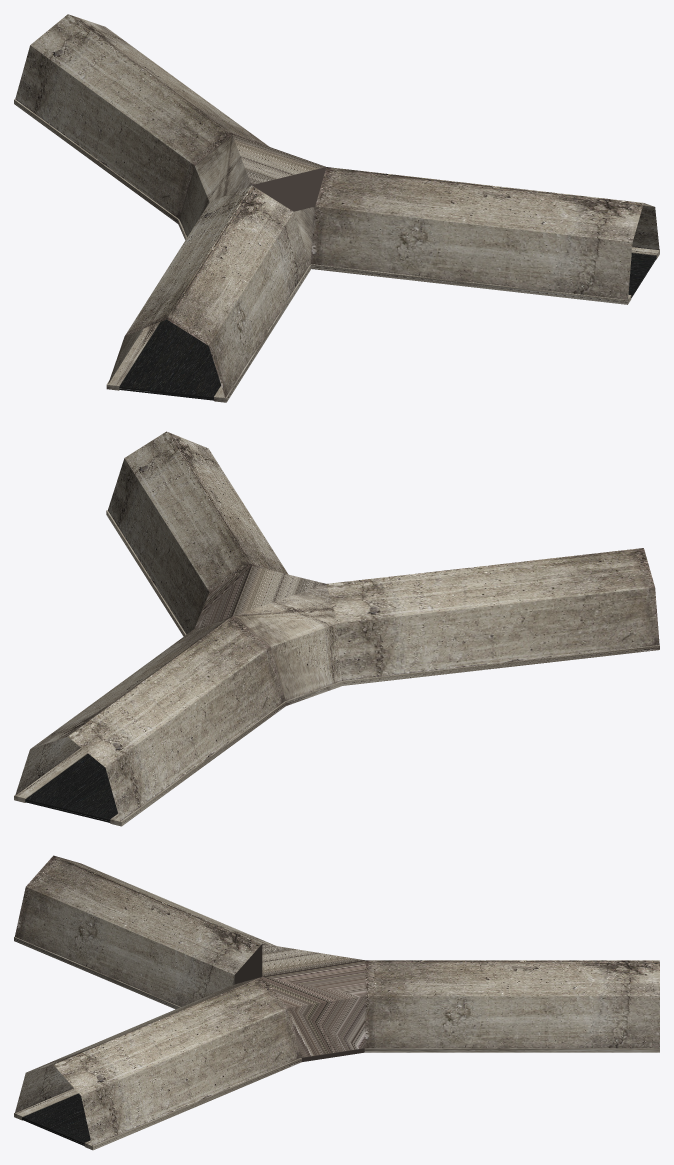
Rendered from intersection_tunnel.glb.
The picture shows the model from 3 angles, top to bottom: view 1: azimuth 30°, elevation 25°; view 2: azimuth 150°, elevation 25°; view 3: azimuth 270°, elevation 25°; orthographic projection. The views are drawn at different scales.
Parts seen in each view (by area): view 1: Top, Road, Border; view 2: Top, Border, Road; view 3: Top, Border, Road.
Part boxes in pixels (x1,y1,x2,y2): Top: [15, 14, 659, 397]; Road: [119, 253, 656, 400]; Border: [14, 99, 659, 402]; Top: [15, 431, 659, 821]; Border: [14, 510, 659, 826]; Road: [25, 753, 117, 822]; Top: [15, 855, 659, 1145]; Border: [14, 937, 659, 1150]; Road: [22, 1093, 90, 1145].
Bounding box in the file's own units: 38.9 × 5.15 × 43.74.
2 materials, 2 textured.
